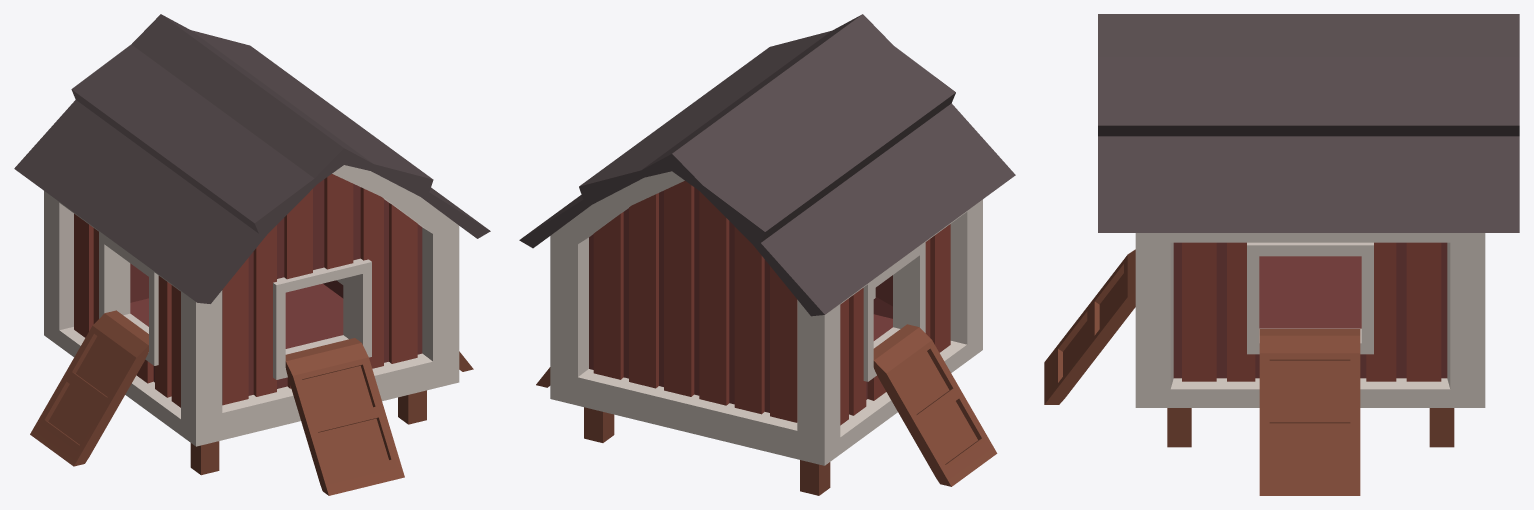
Rendered from chicken-coop.lod.glb.
3 views of the same model, side by side, from view 1: azimuth 30°, elevation 25°; view 2: azimuth 150°, elevation 25°; view 3: azimuth 270°, elevation 25° (orthographic). The views are drawn at different scales.
Parts seen in each view (by area): view 1: ChickenCoop_Cube.015; view 2: ChickenCoop_Cube.015; view 3: ChickenCoop_Cube.015.
Boxes of the visible parts, x1,y1,x2,y2 form: ChickenCoop_Cube.015: (14,14,490,495); ChickenCoop_Cube.015: (519,14,1015,495); ChickenCoop_Cube.015: (1044,14,1519,495).
Bounding box in the file's own units: 2.41 × 1.85 × 2.15.
Materials: 1 (1 with a texture image).
